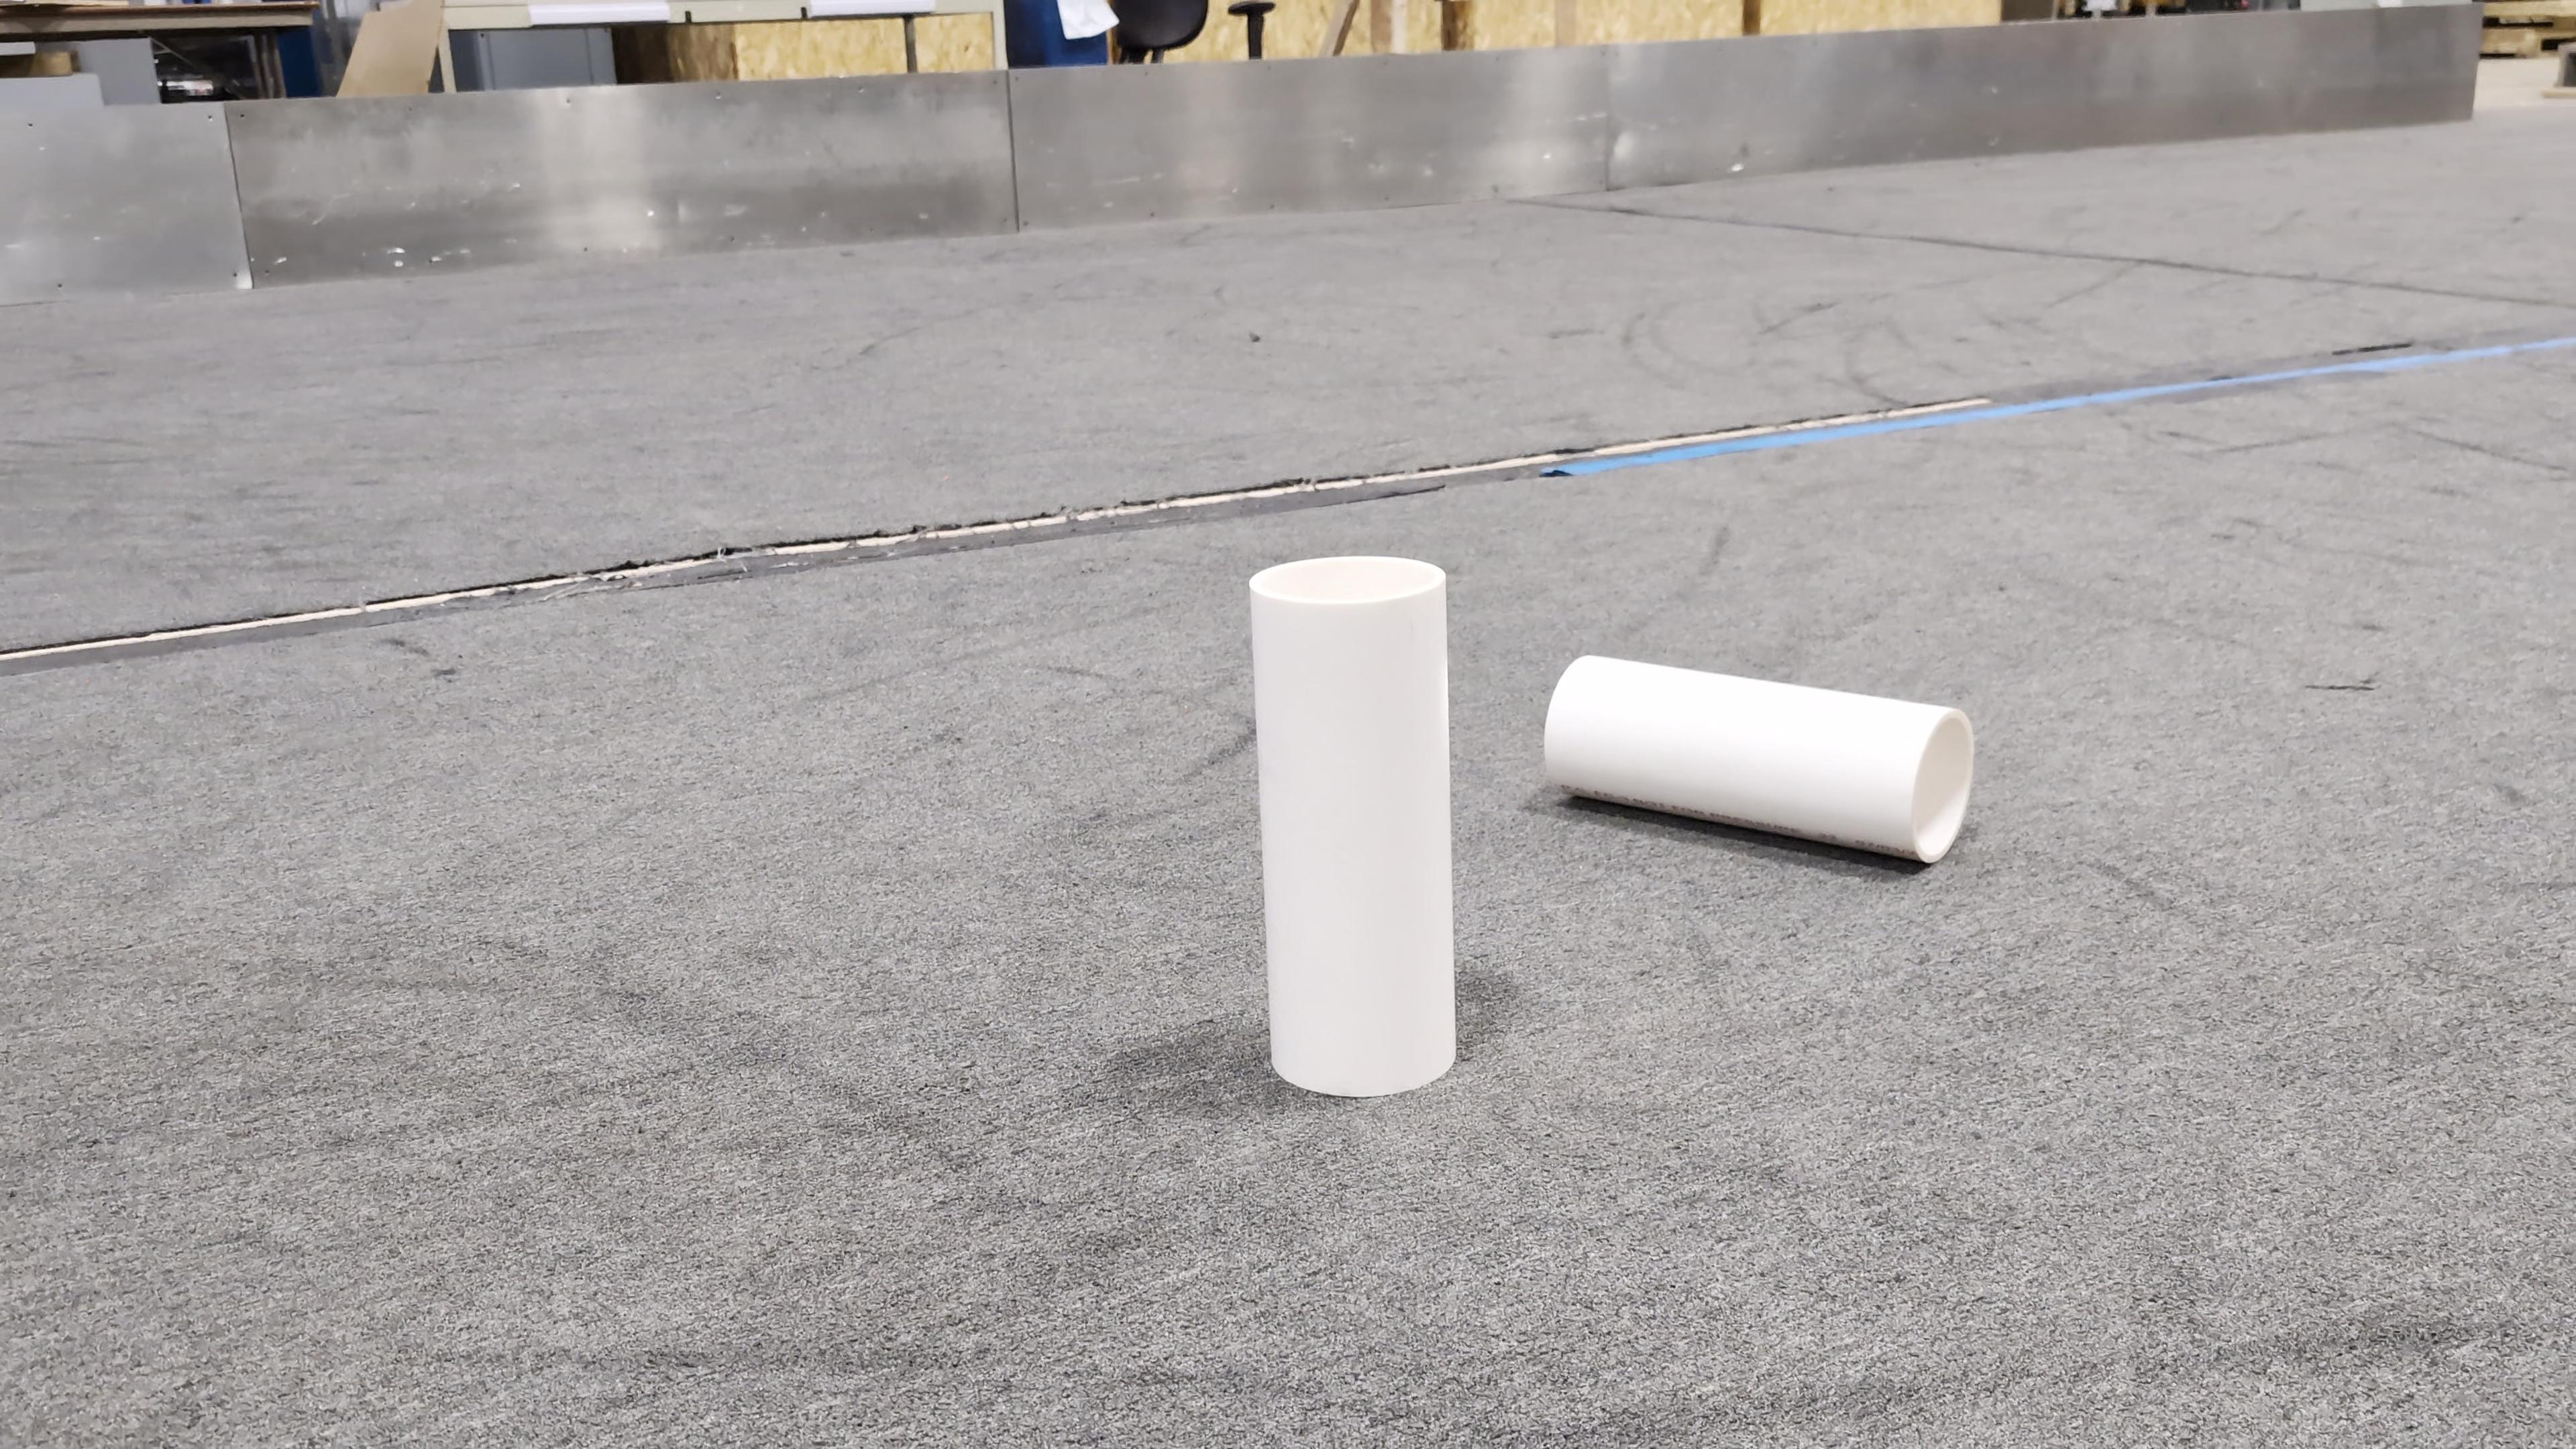coral: (1244, 550, 1463, 1093), (1541, 651, 1976, 862)
